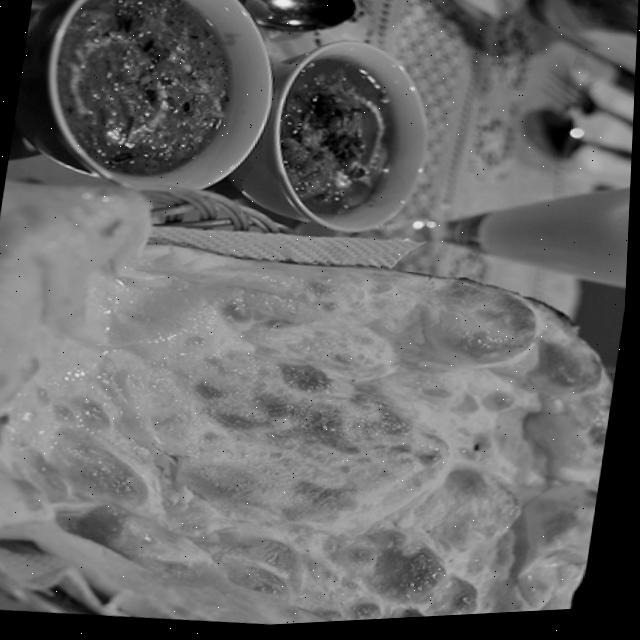牛肉菜式: (26, 0, 298, 212), (259, 28, 446, 252)
